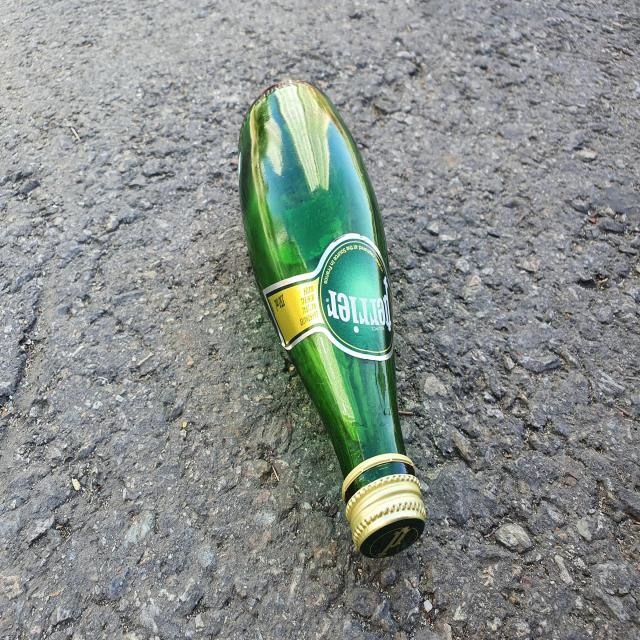glass: (239, 80, 426, 559)
